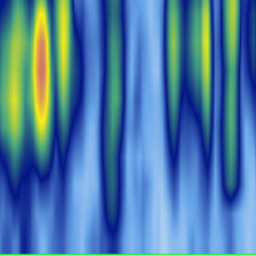defect: (99, 1, 126, 256), (185, 1, 217, 214), (1, 1, 29, 214), (218, 1, 243, 218), (29, 1, 55, 189), (161, 1, 185, 202), (56, 1, 75, 204), (249, 9, 256, 65)
